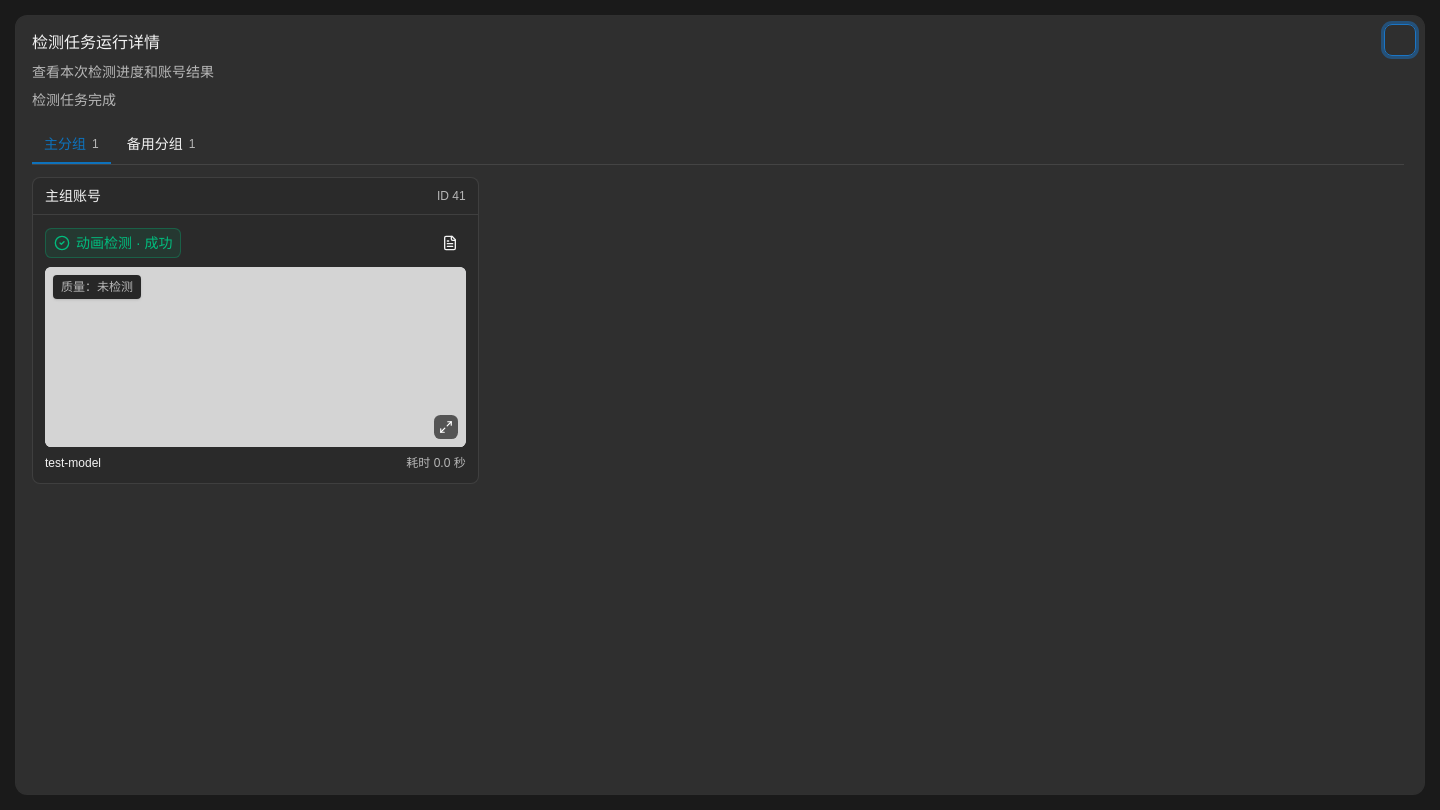
Test: 运行详情按任务选择的分组展示账号且每个账号只出现在所属分组
The width and height of the screenshot is (1440, 810).
Expected: the tab "主分组 1" is shown, x1=32 y1=126 x2=111 y2=164
Click the tab "备用分组 1": click(161, 145) x1=115 y1=126 x2=207 y2=164
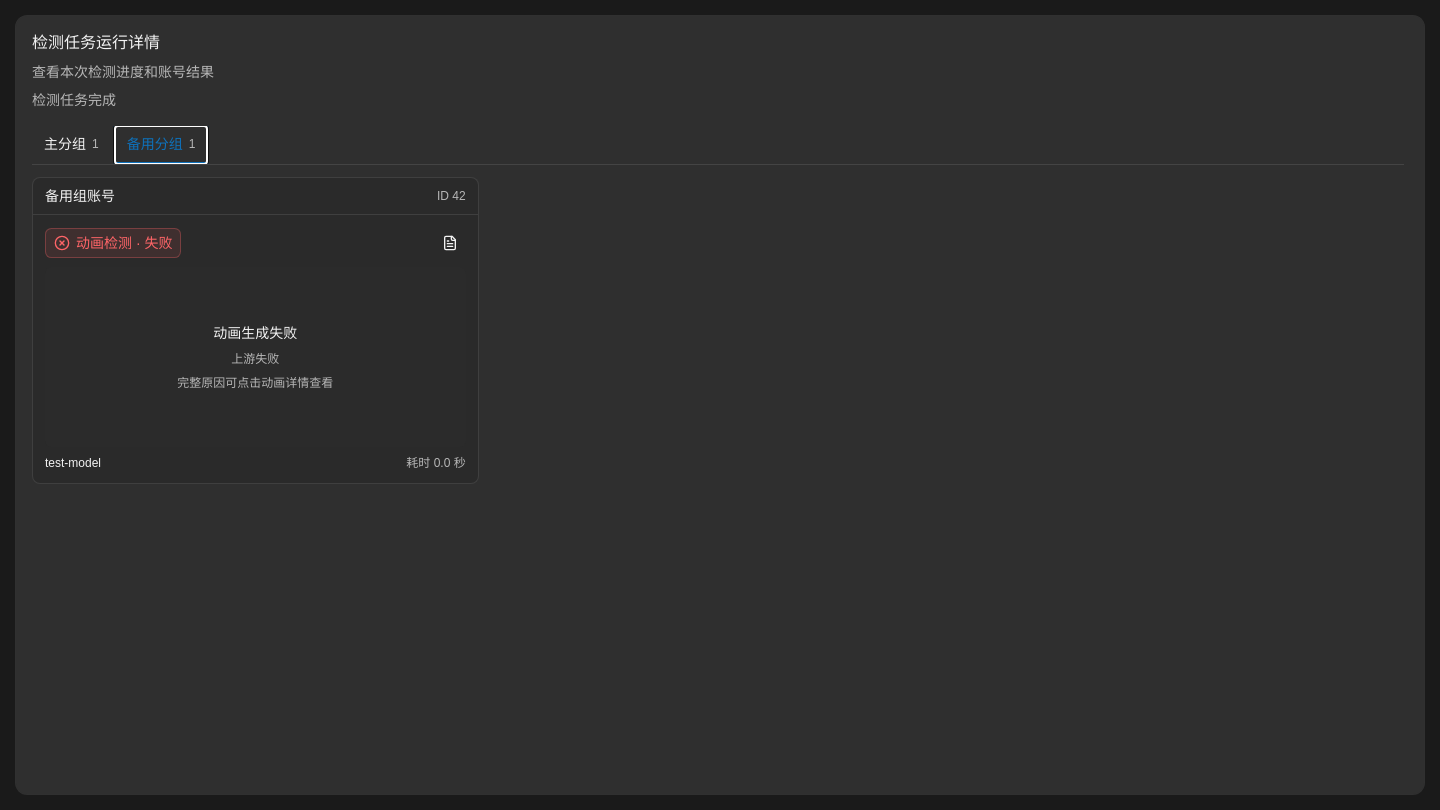
Now the element named "检测账号 备用组账号" shows "备用组账号", box x1=45 y1=188 x2=115 y2=204
